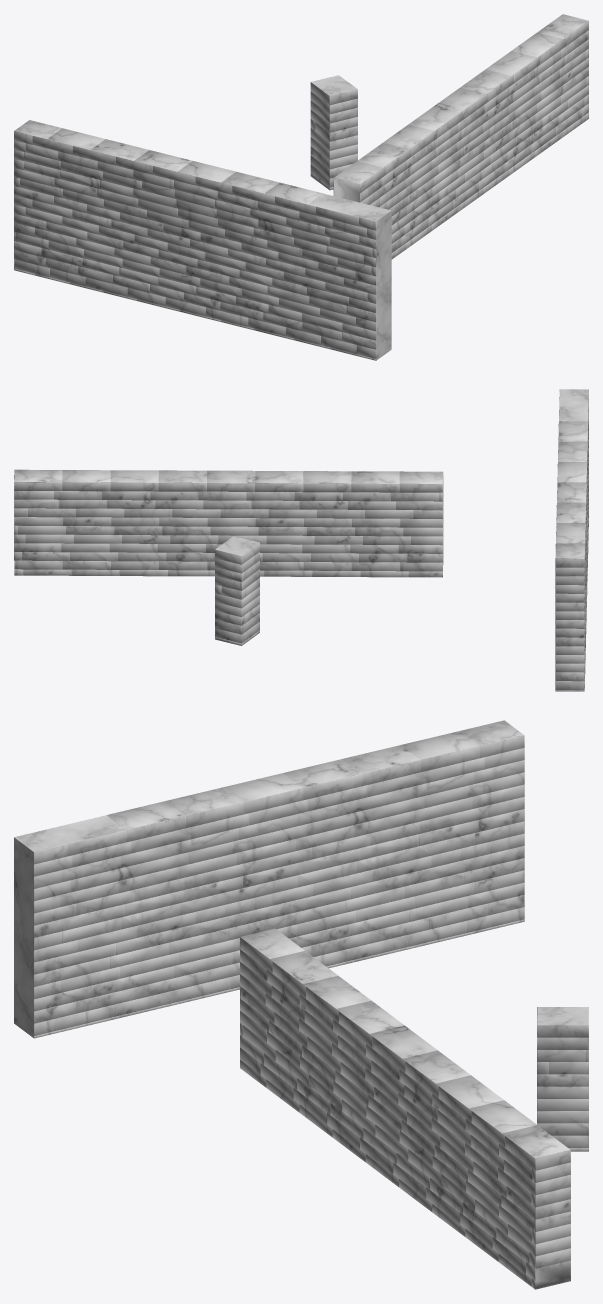
The model's file is preview.glb.
3 views of the same model, one above another, from view 1: azimuth 30°, elevation 25°; view 2: azimuth 150°, elevation 25°; view 3: azimuth 270°, elevation 25° (orthographic). The views are drawn at different scales.
Visible parts, largest first — view 1: Material2; view 2: Material2; view 3: Material2.
Boxes of the visible parts, bbox=[...] form: Material2: bbox=[14, 14, 588, 360]; Material2: bbox=[14, 389, 588, 691]; Material2: bbox=[14, 720, 588, 1289].
Bounding box in the file's own units: 264 × 63.85 × 167.
Materials: 1 (1 with a texture image).
